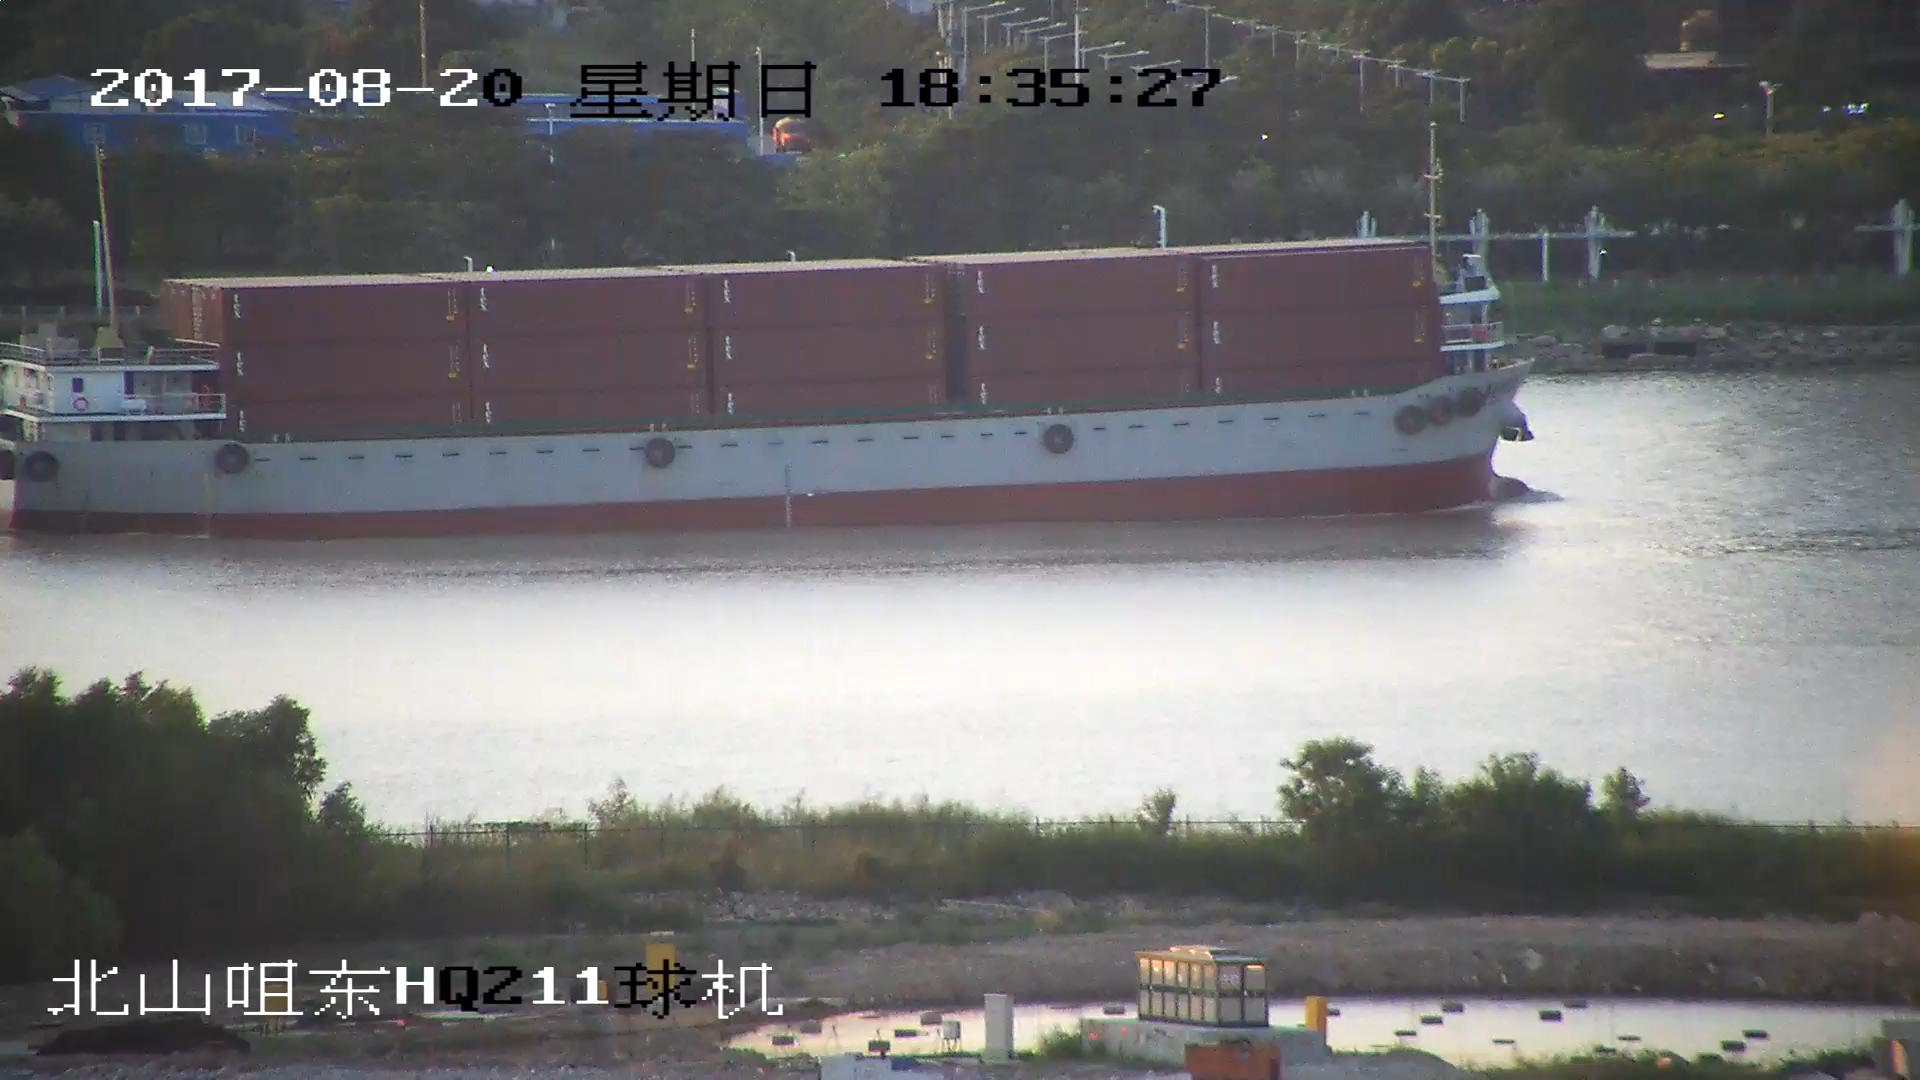container ship: (1, 156, 1548, 541)
